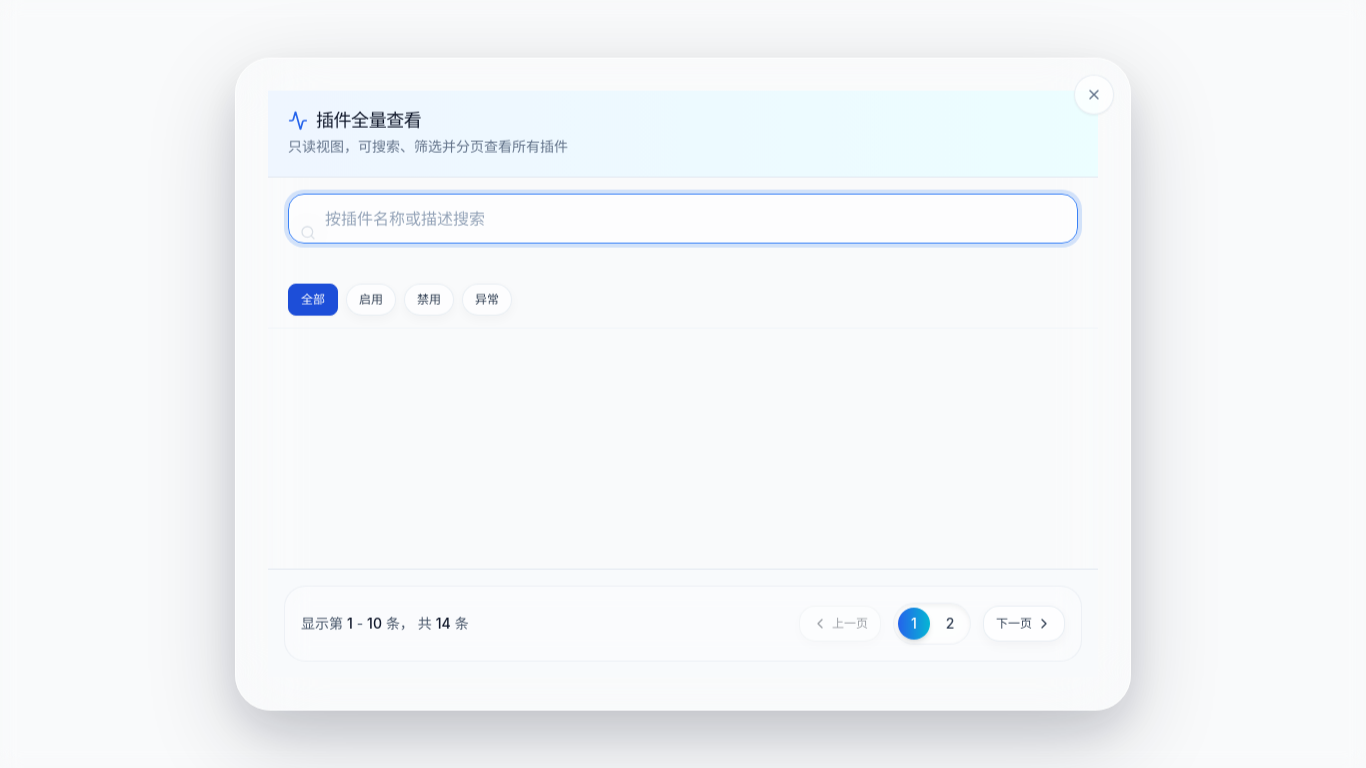
it: PluginPreviewDialog › supports search, status filtering and pagination
expect the dialog "插件全量查看" is shown: met, box [235,58,1131,710]
expect the text "plugin-10" is not shown: met
Click the button "下一页" at (1024, 623), box [983,605,1065,641]
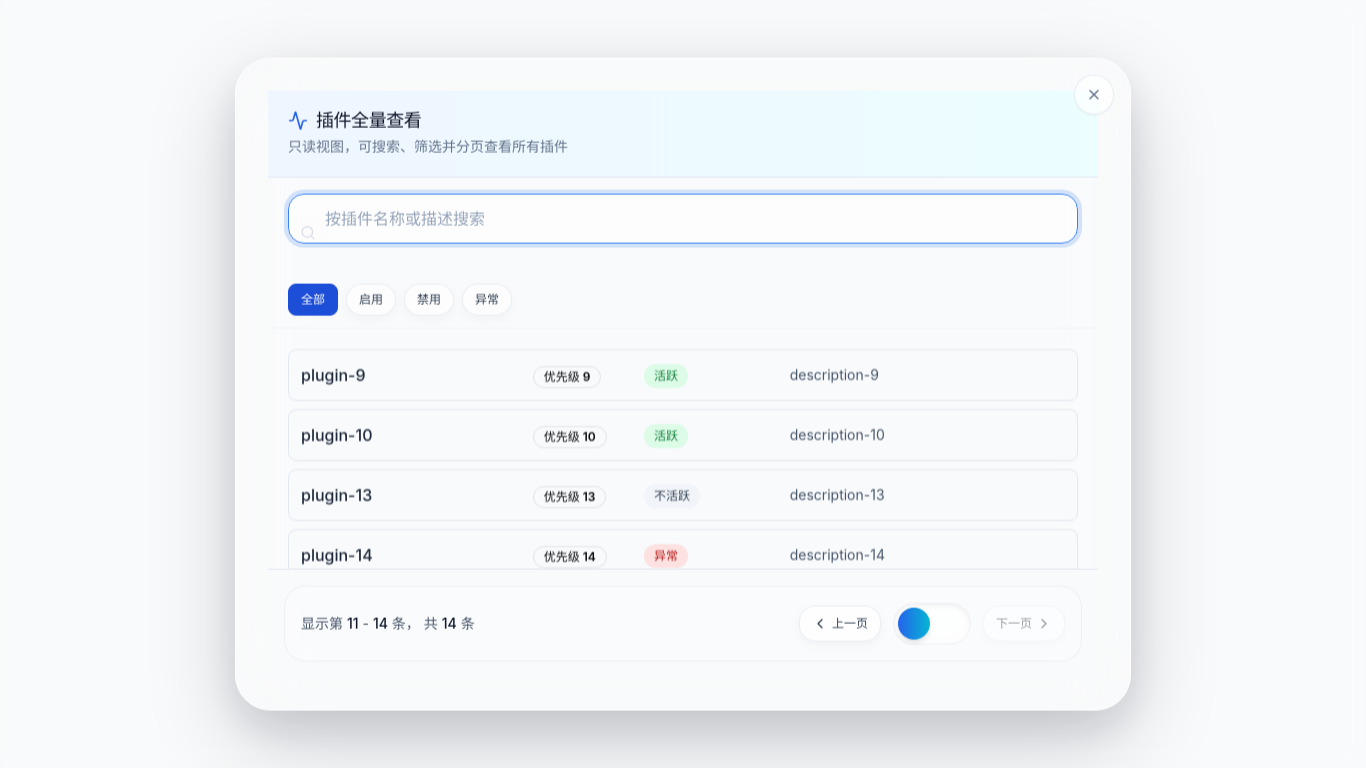
expect the text "plugin-10" is shown: met, box [301,425,372,445]
expect the text "plugin-13" is shown: met, box [301,485,372,505]
expect the text "plugin-14" is shown: met, box [301,545,373,565]
Type "custom source" into the field with placeholder "按插件名称或描述搜索" at (683, 219), box [288,194,1078,244]
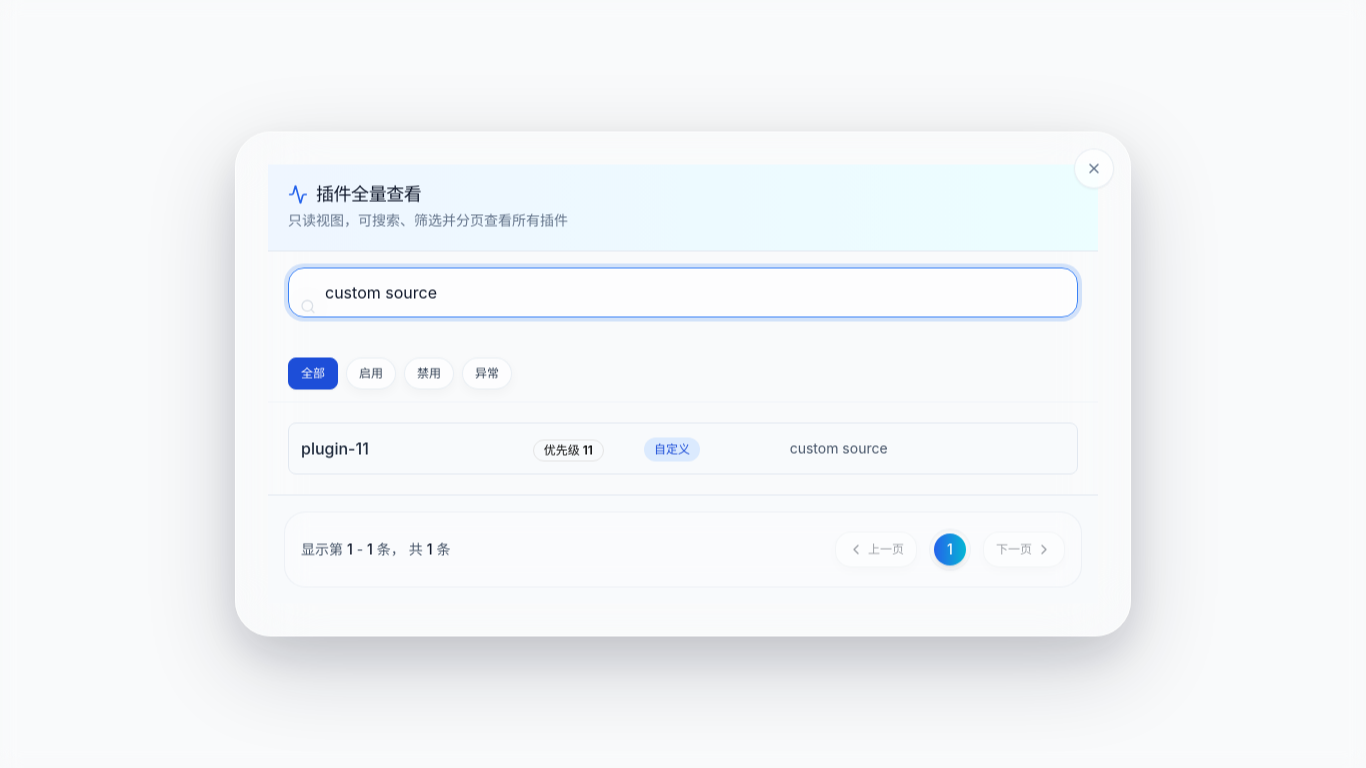
expect the text "plugin-12" is not shown: met
expect the text "plugin-11" is shown: met, box [301,438,369,458]
Click the button "异常" at (487, 374), box [462,358,512,390]
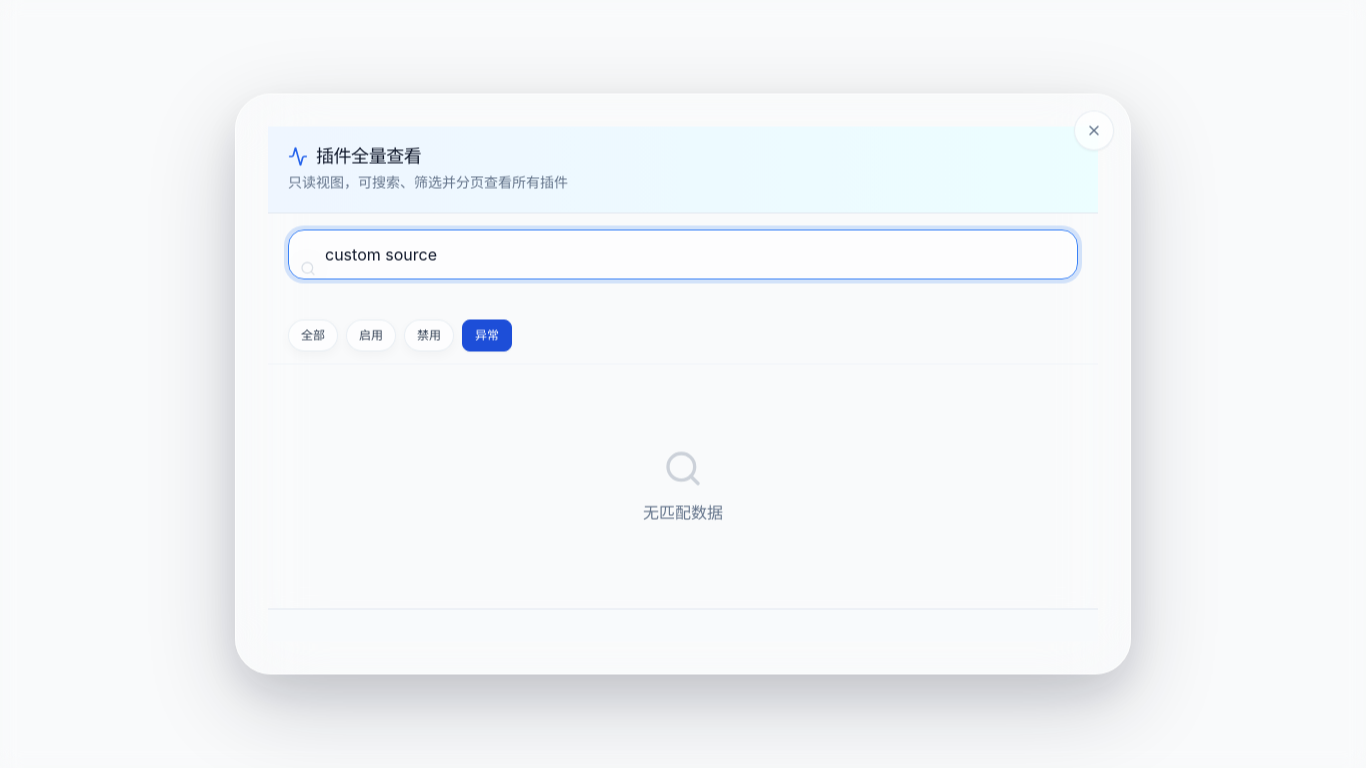
expect the text "无匹配数据" is shown: met, box [643,502,723,522]
Clear the field with placeholder "按插件名称或描述搜索" at (683, 254), box [288,230,1078,280]
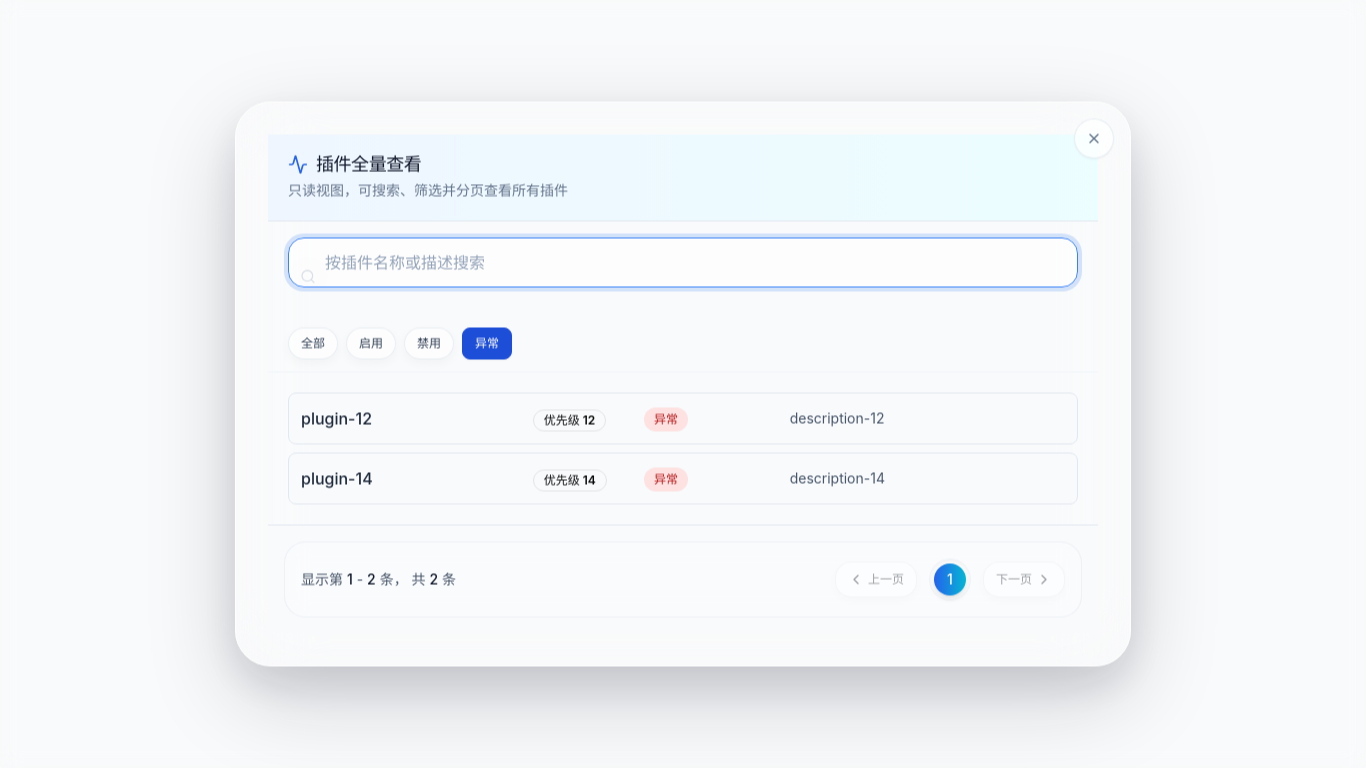
expect the text "plugin-12" is shown: met, box [301,408,372,428]
expect the text "plugin-14" is shown: met, box [301,468,373,488]
expect the text "异常" next to "description-14" is shown: met, box [654,472,678,486]
Click the button "禁用" at (429, 344), box [404,328,454,360]
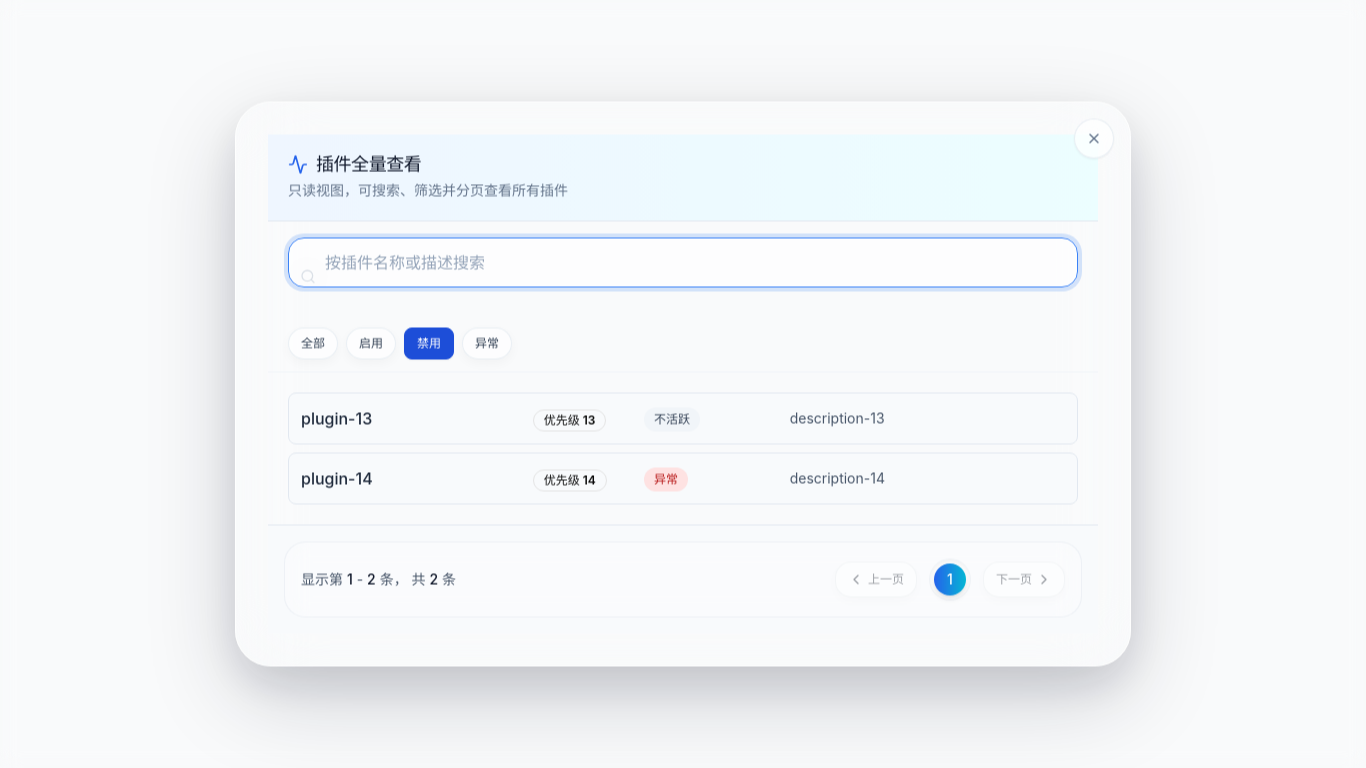
expect the text "plugin-12" is gone: met
